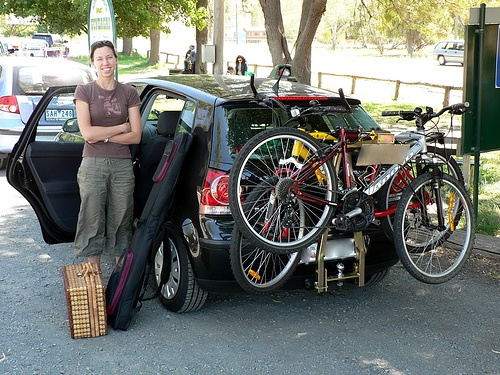non-vehicle: (231, 73, 465, 292), (228, 102, 469, 252)
